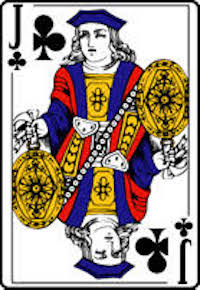JackOfClubs: (1, 1, 200, 288)
